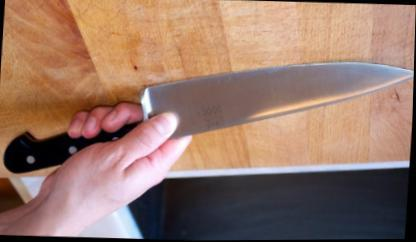knife: (59, 45, 414, 204)
